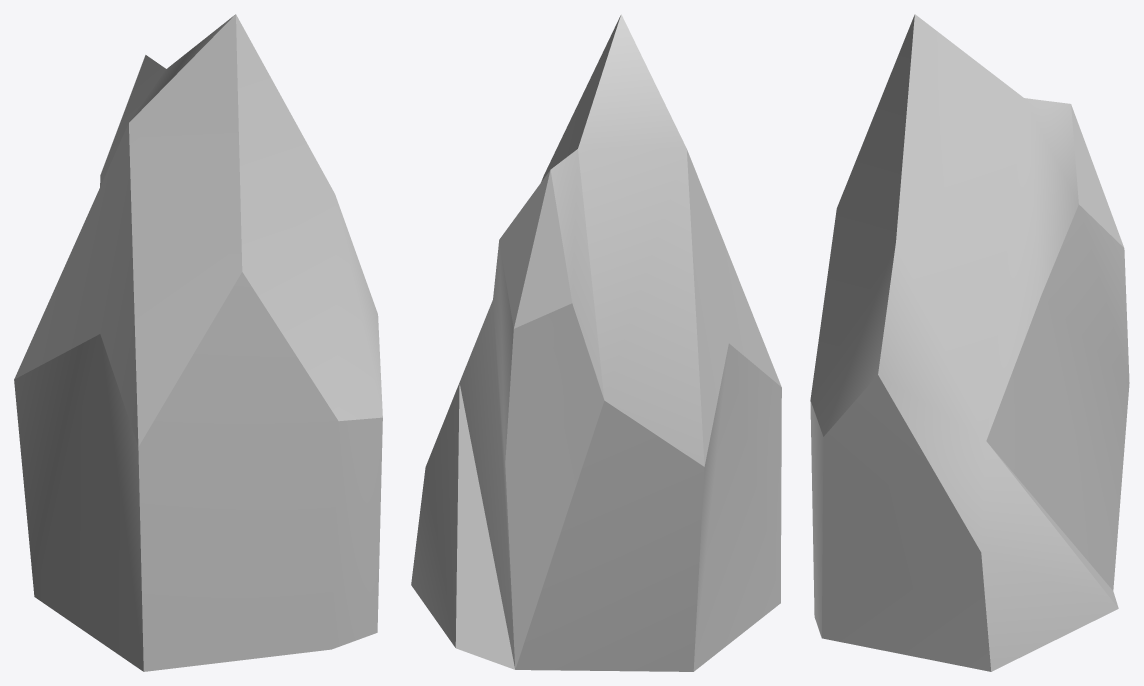
File: RockPiece_5.fbx
3 renders of one model, left to right at view 1: azimuth 30°, elevation 25°; view 2: azimuth 150°, elevation 25°; view 3: azimuth 270°, elevation 25°, orthographic. The views are drawn at different scales.
Visible parts, largest first — view 1: pSolid2; view 2: pSolid2; view 3: pSolid2.
Boxes of the visible parts, x1,y1,x2,y2 form: pSolid2: (14,14,382,671); pSolid2: (411,14,781,671); pSolid2: (810,14,1129,671).
Bounding box in the file's own units: 0.0244 × 0.0429 × 0.0213.
